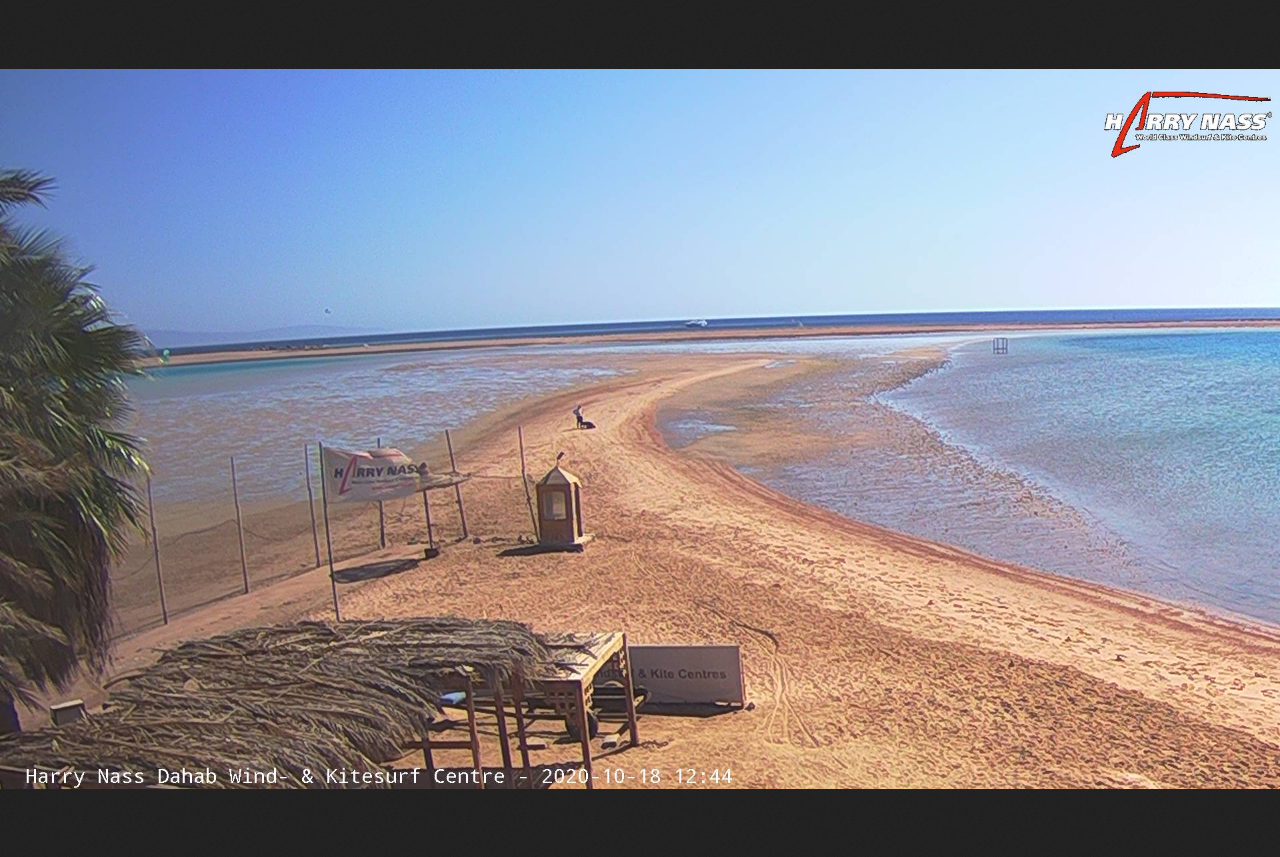yes: (314, 434, 438, 504)
